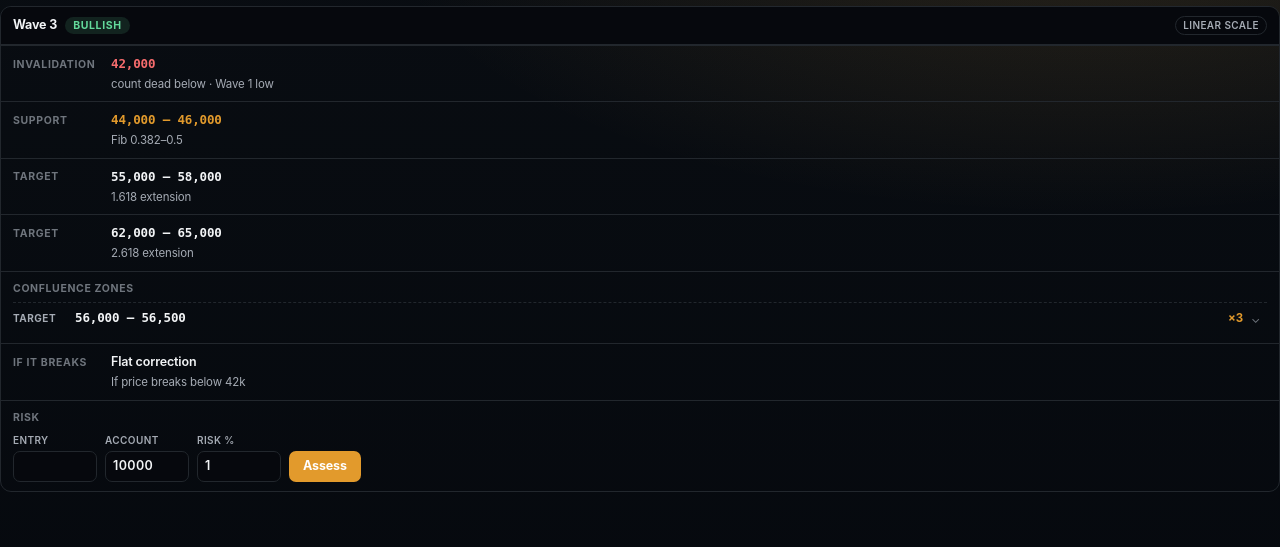
LevelsSummary › renders confluence zones compactly; contributions expand per zone on click
Expected: the element with test id "confluence-zones" is shown, x1=1 y1=271 x2=1279 y2=343
Expected: the text "Confluence zones" is shown, x1=13 y1=282 x2=134 y2=295
Step 1. Click the button "Target 56,000 – 56,500 ×3 ⌄" → x=35, y=318, box x1=13 y1=305 x2=1267 y2=332
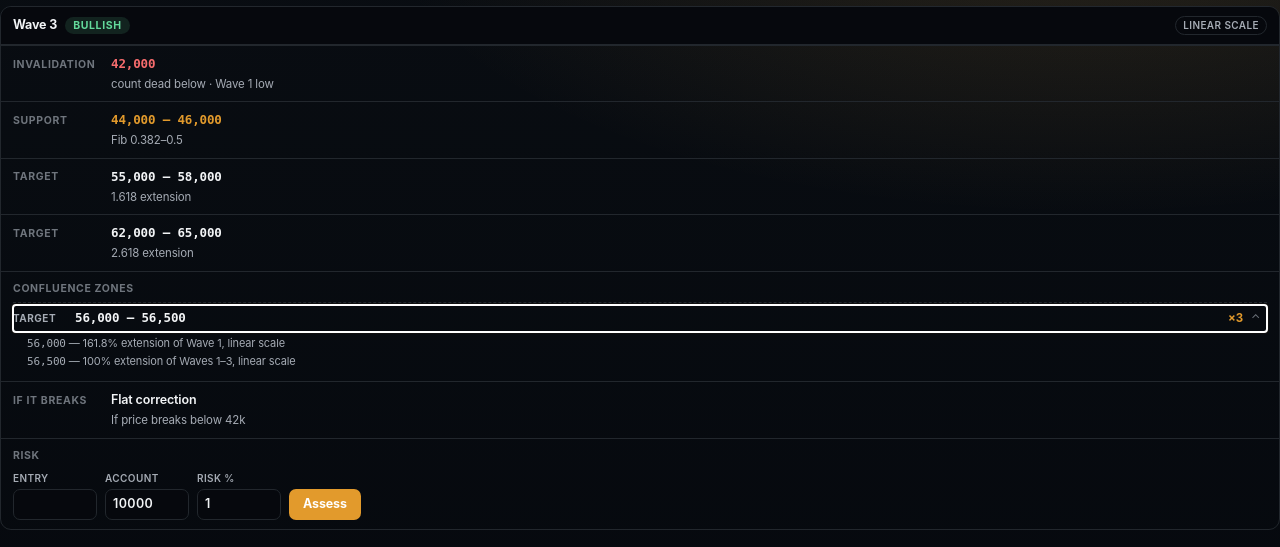
Expected: the list item "56,000 — 161.8% extension of Wave 1, linear scale" is shown, x1=27 y1=336 x2=285 y2=350
